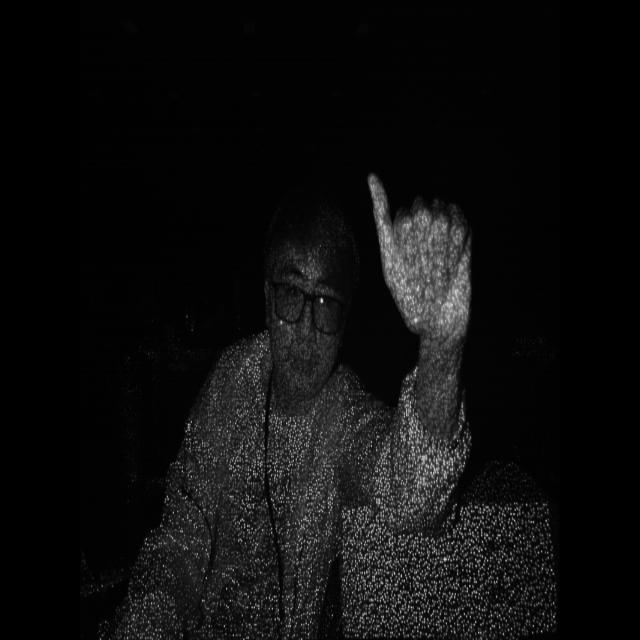A: (362, 160, 484, 352)
